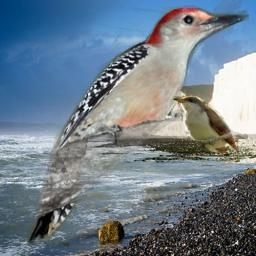Cuckoo: (170, 90, 248, 154)
Woodpecker: (27, 5, 249, 246)
